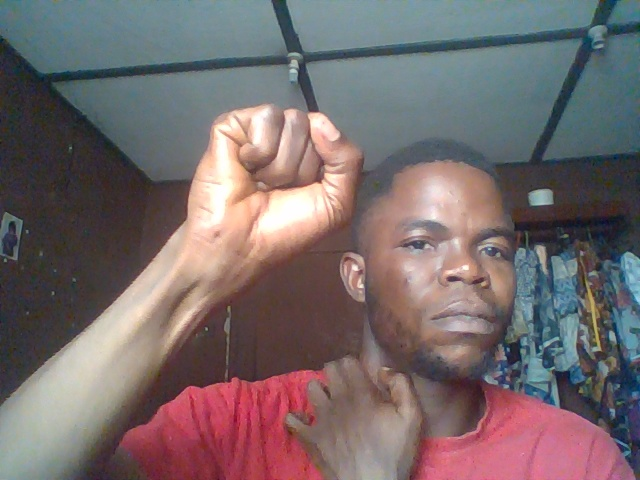Unity: (174, 103, 365, 308)
